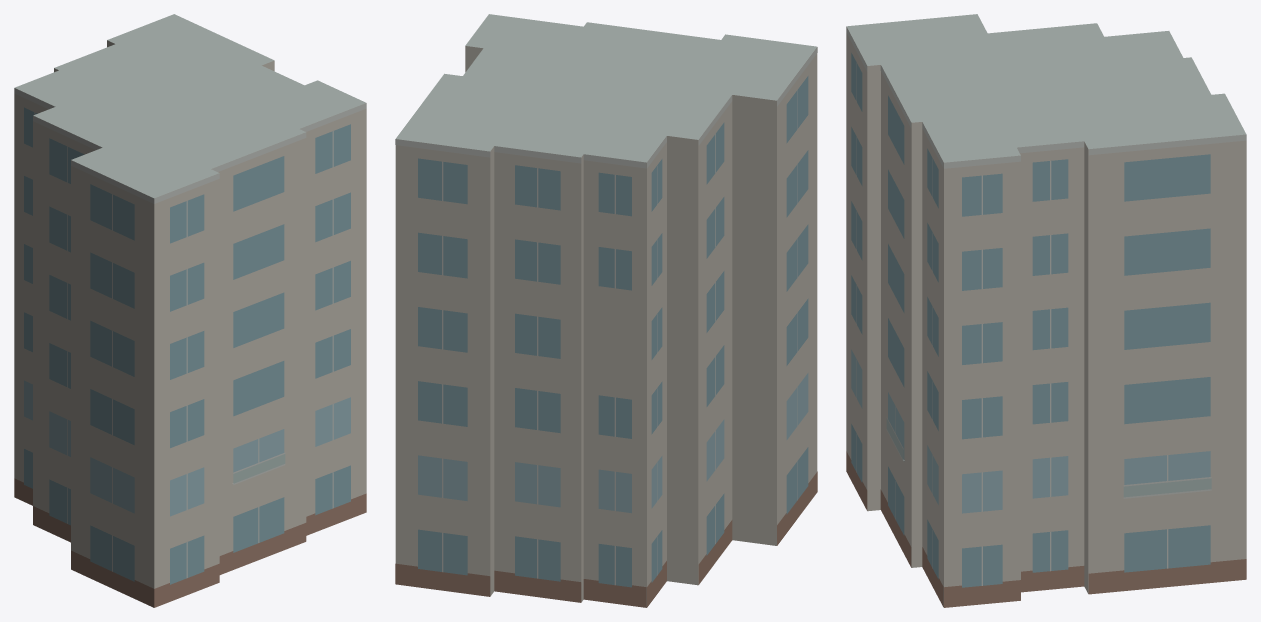
File: survey-upis-32619130.glb
3 views of the same model, side by side, from view 1: azimuth 30°, elevation 25°; view 2: azimuth 150°, elevation 25°; view 3: azimuth 270°, elevation 25° (orthographic). The views are drawn at different scales.
Parts seen in each view (by area): view 1: survey-upis-32619130.tmp; view 2: survey-upis-32619130.tmp; view 3: survey-upis-32619130.tmp.
Boxes of the visible parts, <box> form: survey-upis-32619130.tmp: <box>14,14,366,607</box>; survey-upis-32619130.tmp: <box>395,14,817,607</box>; survey-upis-32619130.tmp: <box>846,14,1246,607</box>.
Bounding box in the file's own units: 12.76 × 17.8 × 14.51.
